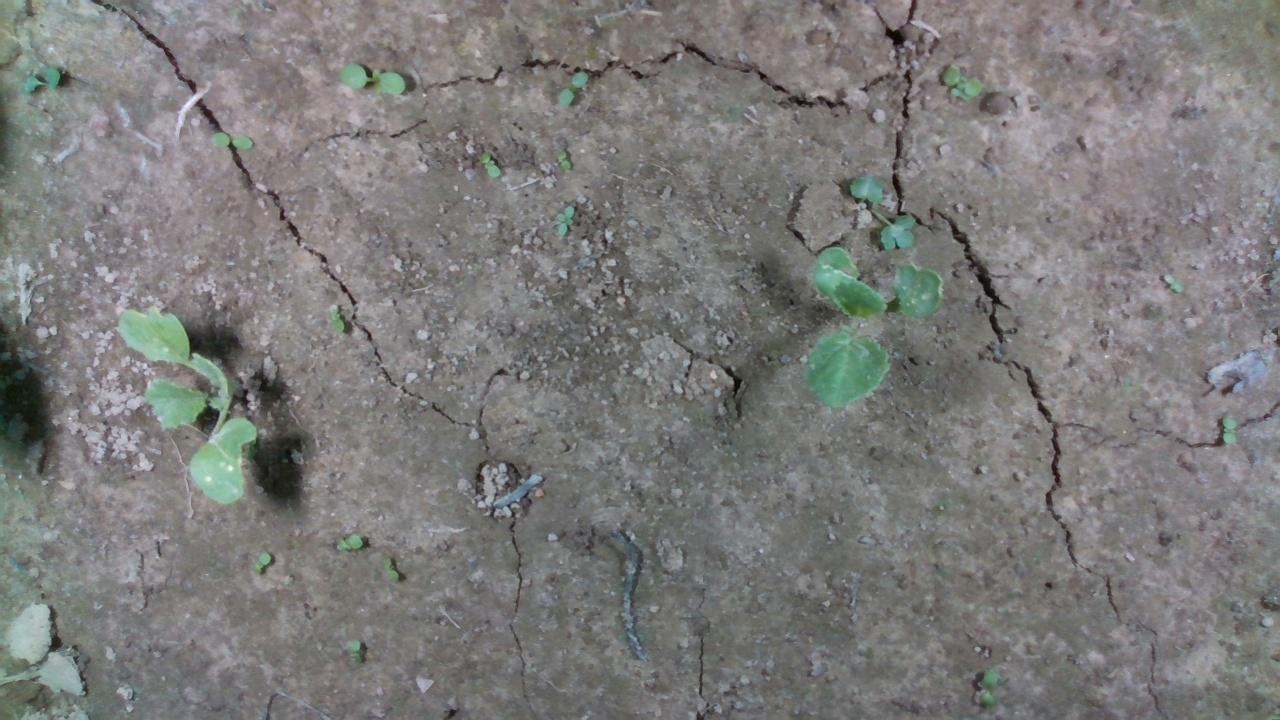weed: (935, 49, 1010, 119), (334, 54, 419, 110), (205, 123, 256, 156), (336, 633, 379, 672), (472, 141, 514, 176), (552, 71, 584, 112), (329, 525, 368, 557), (237, 548, 278, 577), (550, 197, 577, 239), (546, 145, 580, 171)
